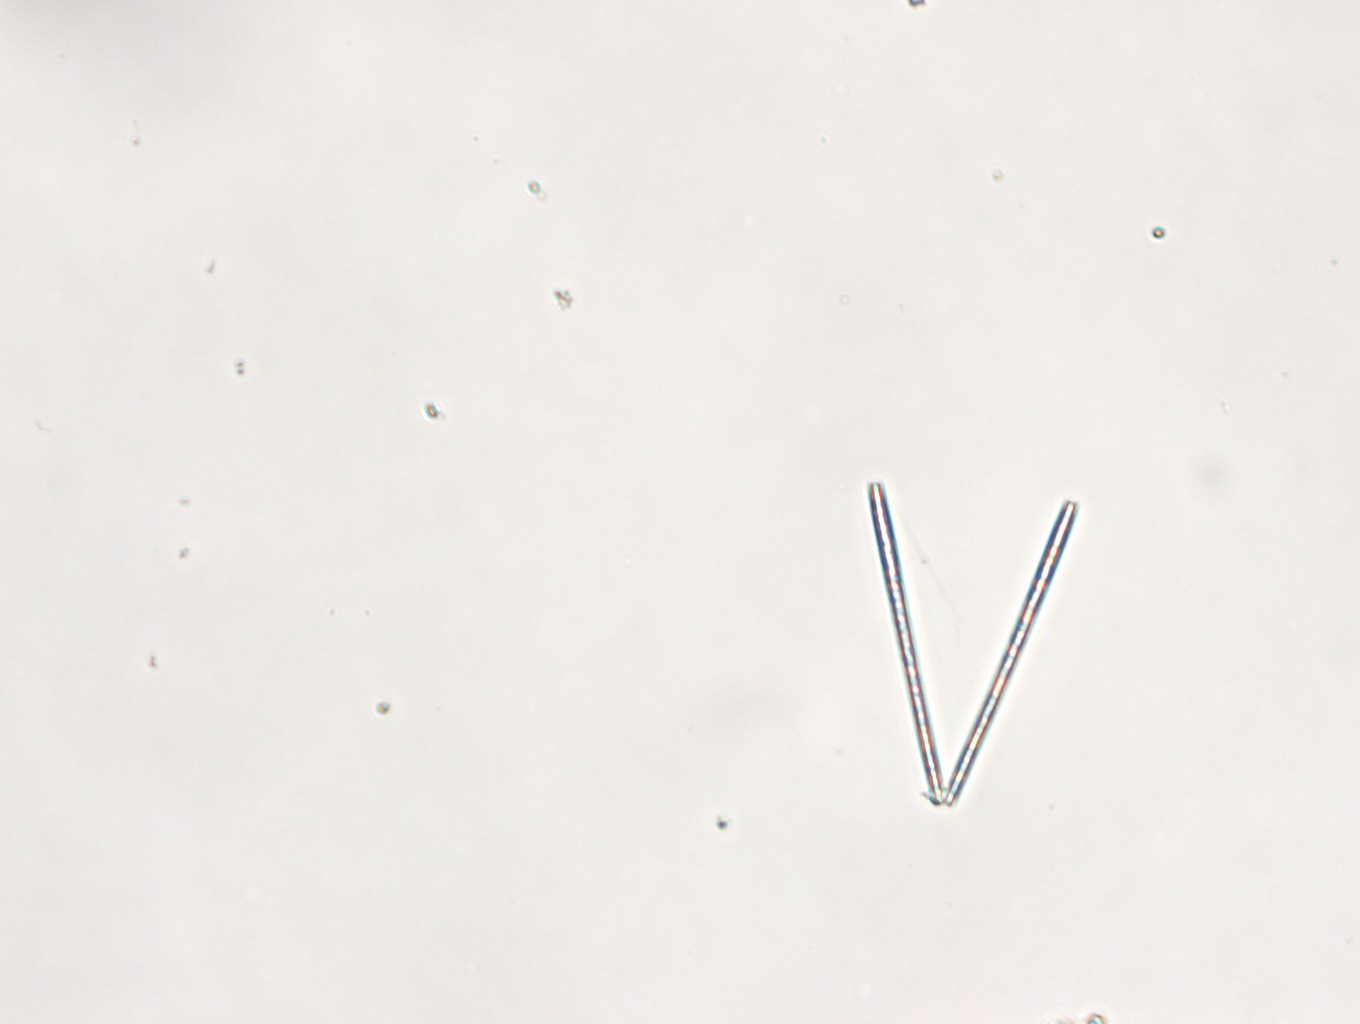thalassionema frauenfeldii: (867, 481, 1077, 808)
